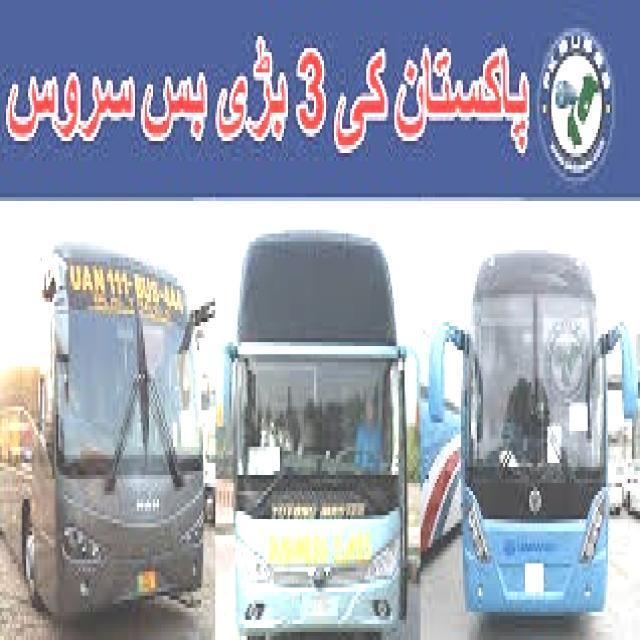Bus: (217, 213, 420, 640), (2, 233, 208, 640), (429, 231, 640, 612)
